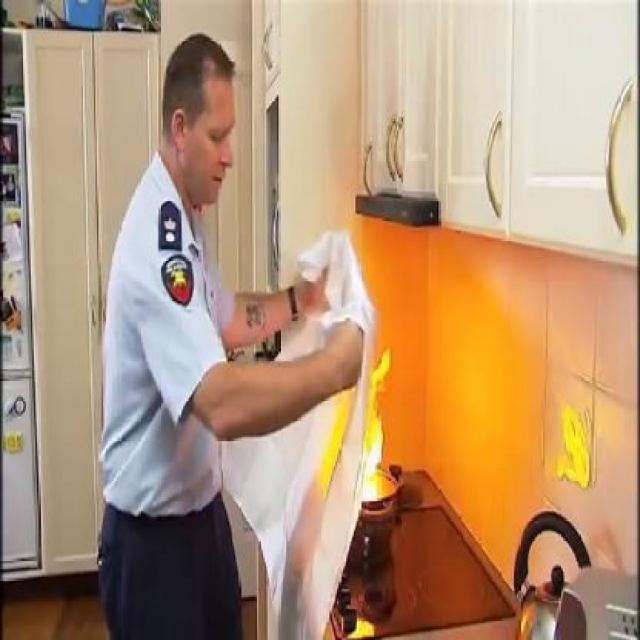fire: (367, 353, 396, 495)
